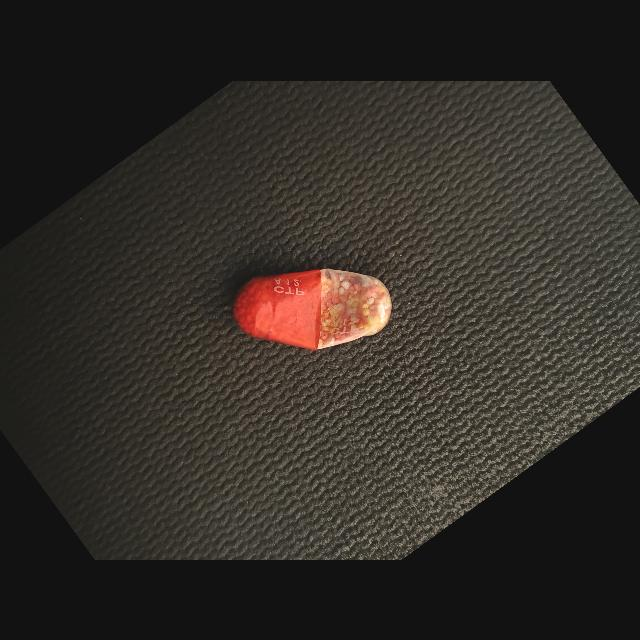Defective Capsule: (233, 268, 392, 350)
